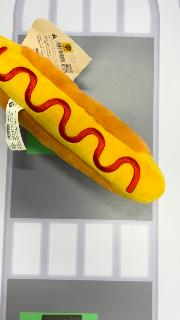hotdog: (1, 36, 166, 204)
